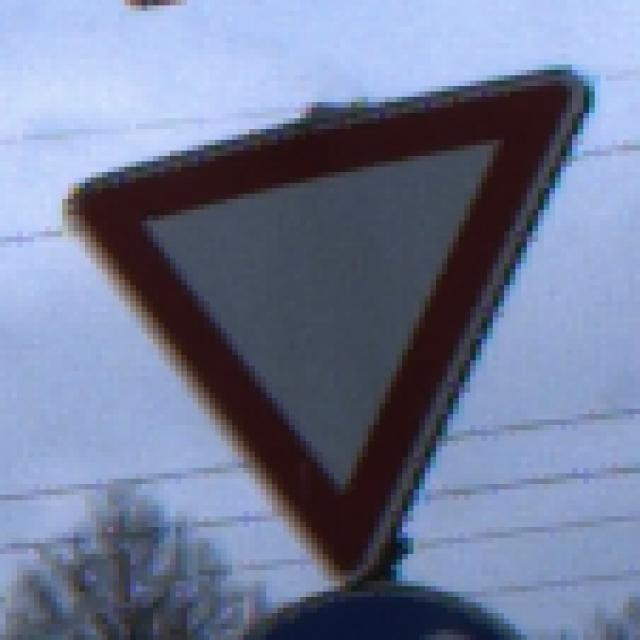Give Way: (58, 60, 590, 587)
